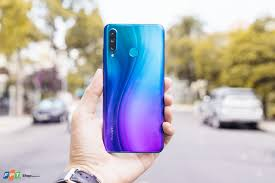huawei: (101, 19, 167, 154)
